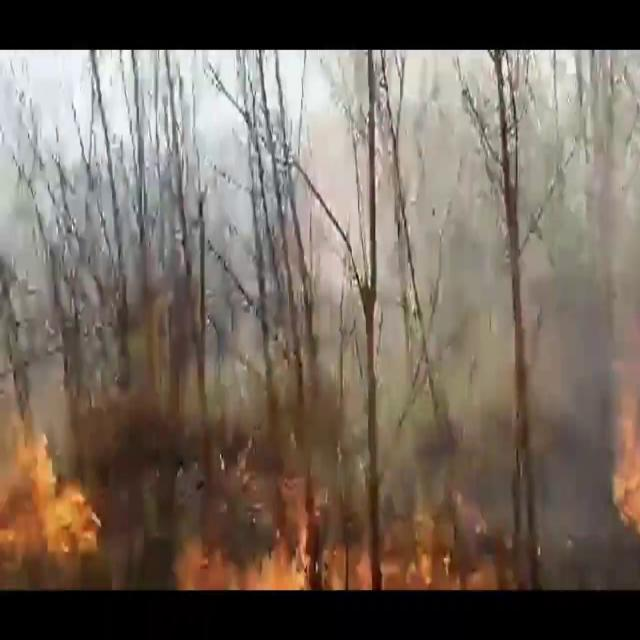Fire: (174, 492, 440, 590), (0, 388, 108, 582), (605, 342, 640, 559)
Smoke: (259, 59, 640, 537)
